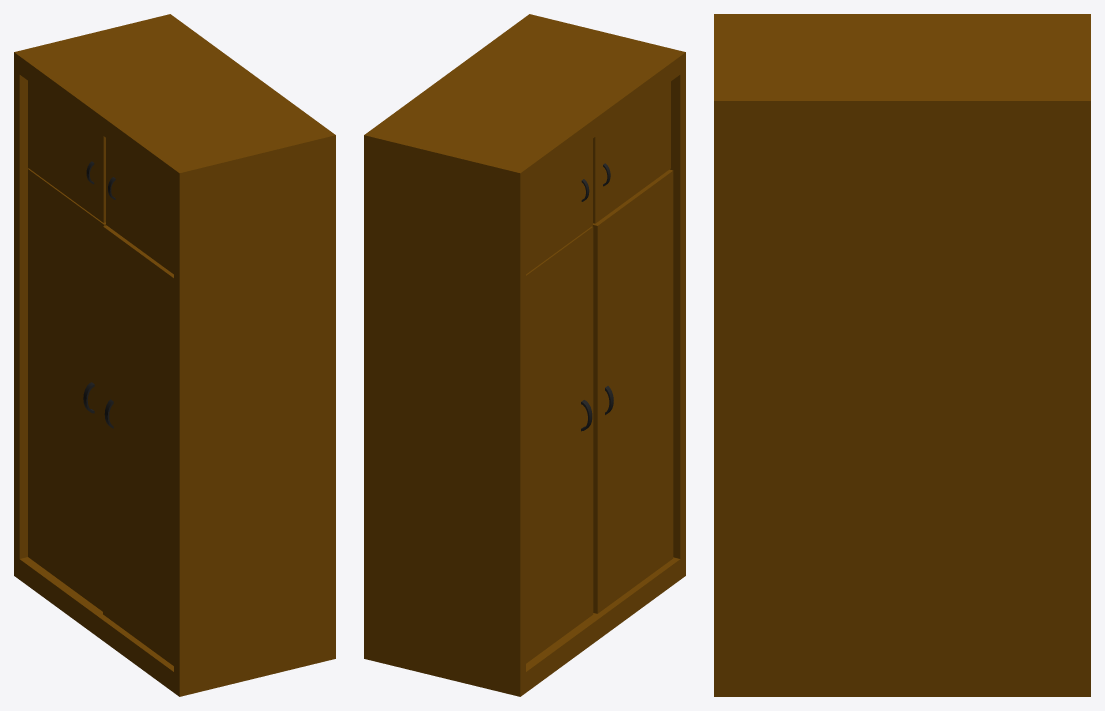
File: for_cloths.fbx
3 renders of one model, left to right at view 1: azimuth 30°, elevation 25°; view 2: azimuth 150°, elevation 25°; view 3: azimuth 270°, elevation 25°, orthographic. The views are drawn at different scales.
Parts seen in each view (by area): view 1: pCube9, pCube12, pCube11, pCube13, pCube14; view 2: pCube9, pCube11, pCube12, pCube14, pCube13; view 3: pCube9.
Boxes of the visible parts, x1=… form: pCube9: x1=14, y1=14, x2=335, y2=696; pCube12: x1=28, y1=168, x2=106, y2=611; pCube11: x1=103, y1=225, x2=173, y2=665; pCube13: x1=28, y1=81, x2=105, y2=222; pCube14: x1=106, y1=138, x2=173, y2=274; pCube9: x1=364, y1=14, x2=685, y2=696; pCube11: x1=592, y1=169, x2=673, y2=613; pCube12: x1=526, y1=226, x2=593, y2=663; pCube14: x1=593, y1=81, x2=670, y2=223; pCube13: x1=526, y1=138, x2=592, y2=274; pCube9: x1=714, y1=14, x2=1090, y2=696.
Size of the model in its own units: 76.84 by 246 by 141.
